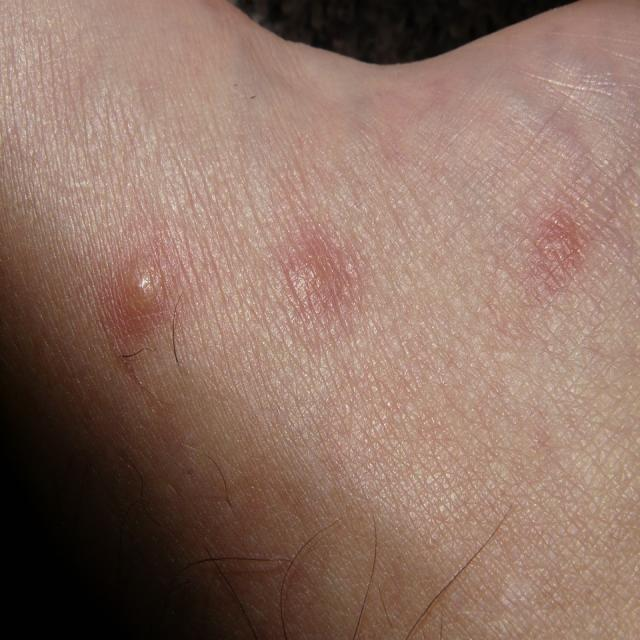hives: (112, 191, 632, 368)
